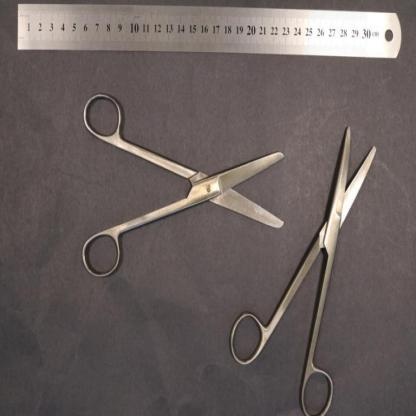Curved Mayo Scissors: (229, 125, 377, 412)
Dressing Scissors: (80, 92, 285, 280)
